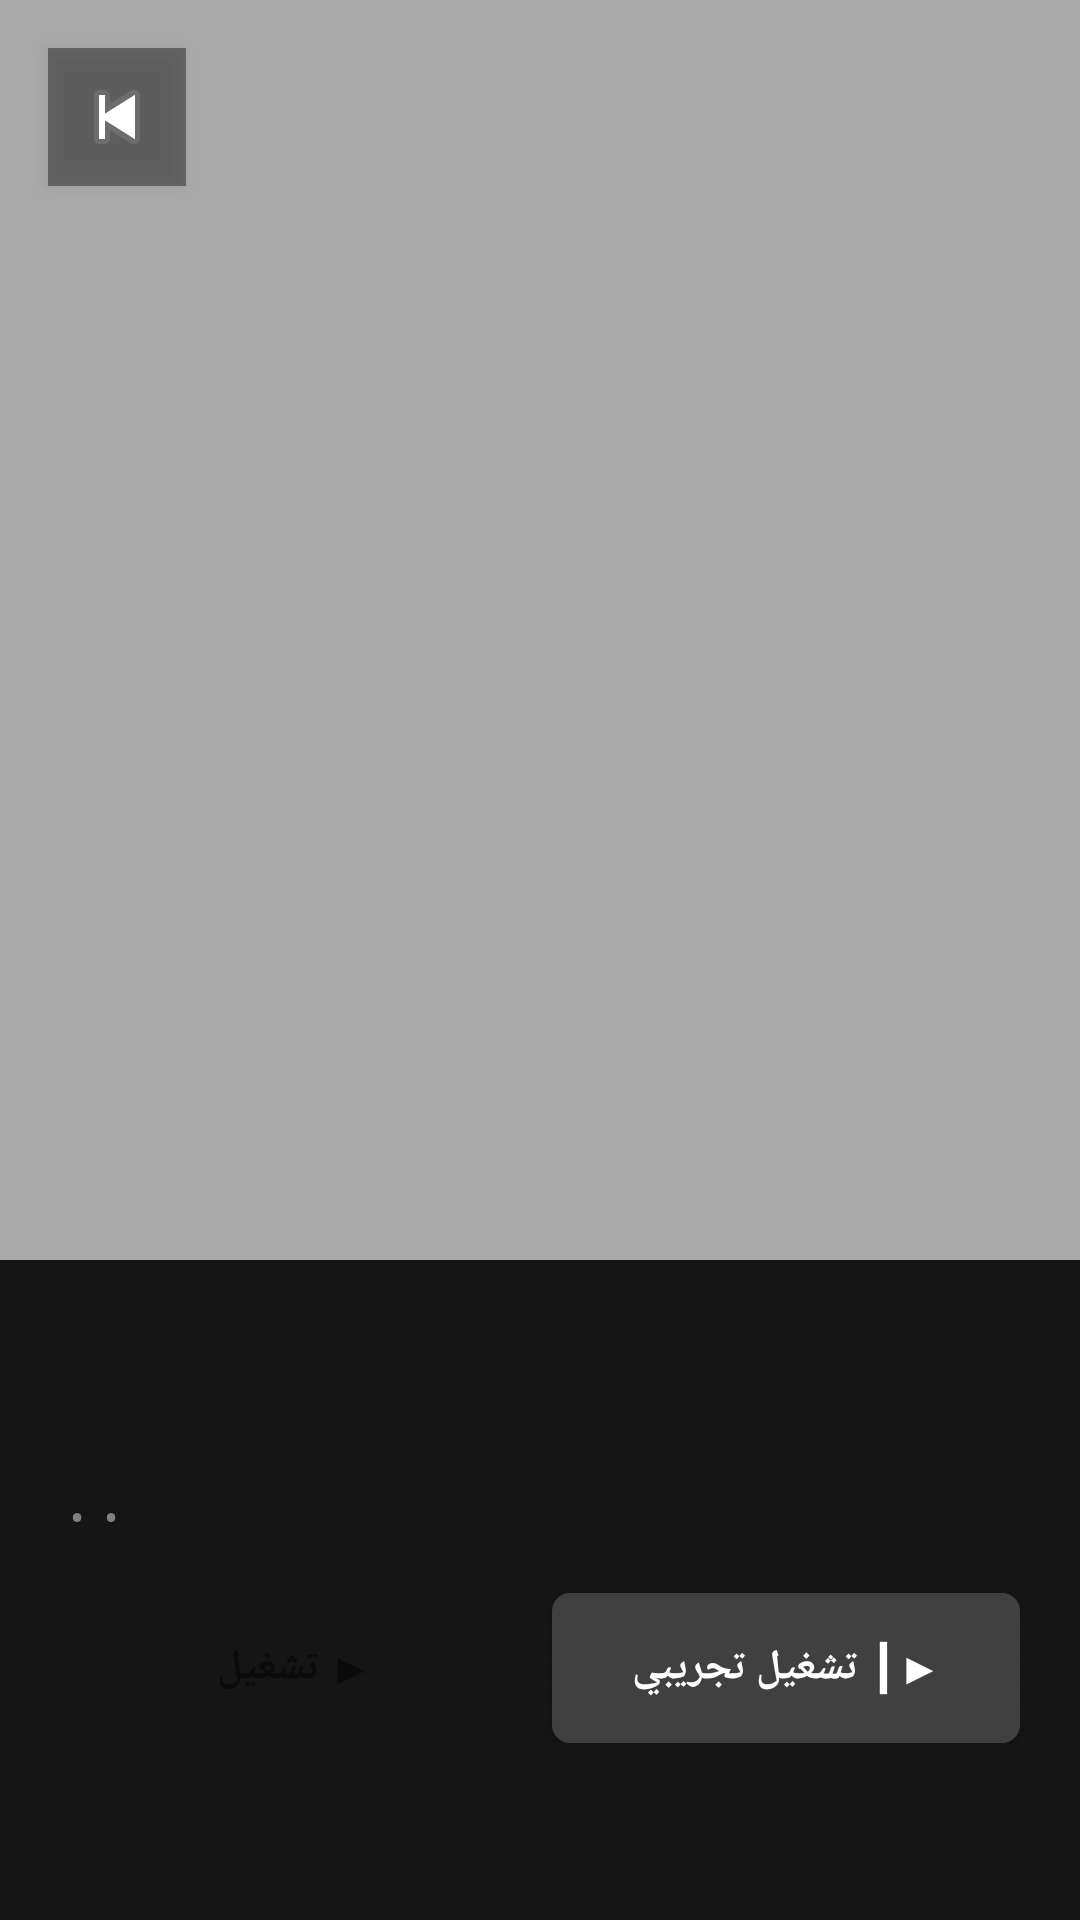

Locate icon controls on the screen. Image size 1080 x 1920, boxes as (x1, y1, x2, y2).
رجوع: (48, 48, 186, 186)
